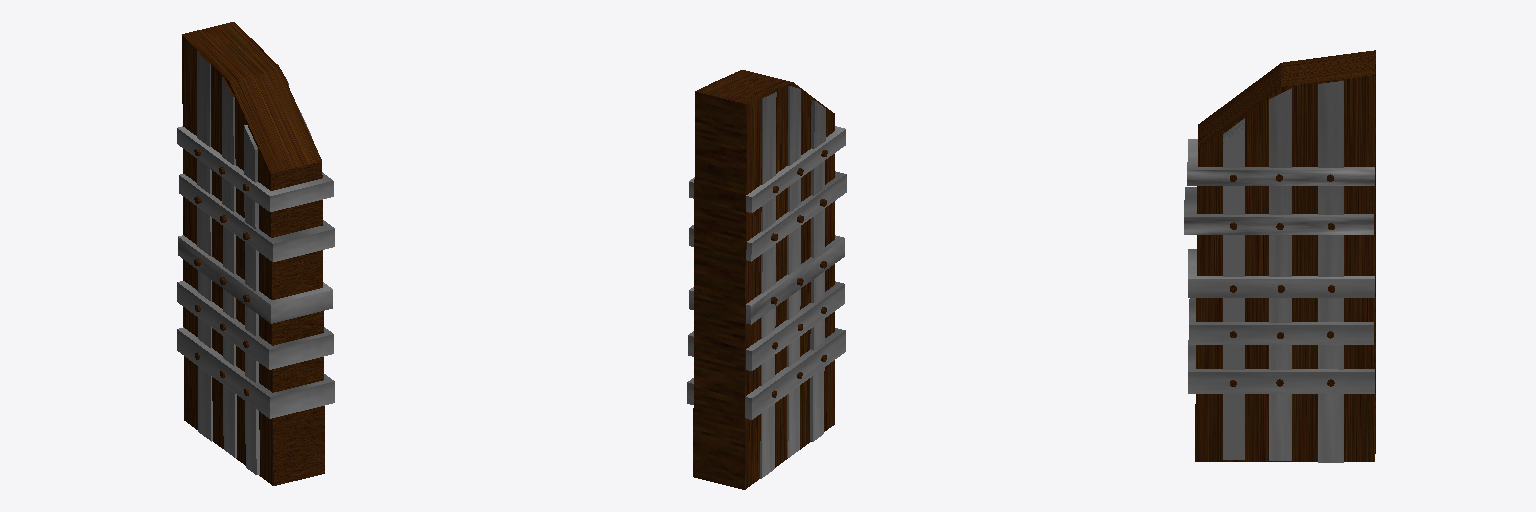
3 views of the same model, side by side, from view 1: azimuth 30°, elevation 25°; view 2: azimuth 150°, elevation 25°; view 3: azimuth 270°, elevation 25° (orthographic).
Visible parts, largest first — view 1: Cube.001; view 2: Cube.001; view 3: Cube.001.
Part boxes in pixels (bbox=[...]): Cube.001: bbox=[177, 22, 334, 485]; Cube.001: bbox=[687, 70, 846, 489]; Cube.001: bbox=[1184, 50, 1375, 462].
Bounding box in the file's own units: 0.8891 × 4.73 × 2.12.
2 materials, 2 textured.